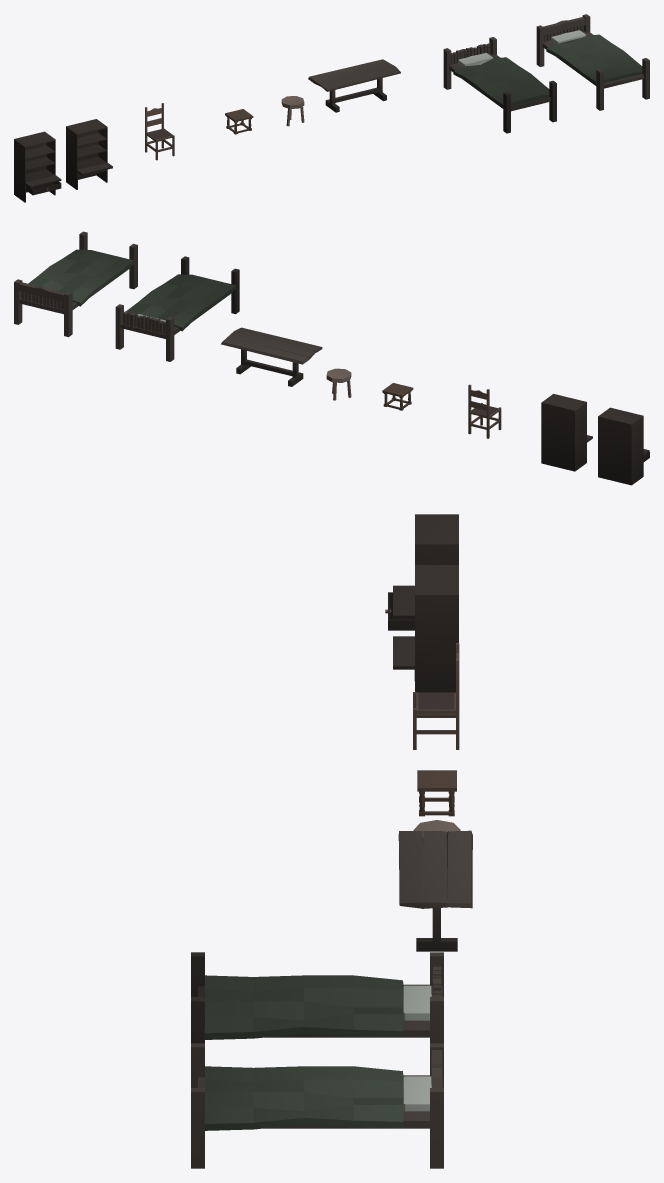
The model's file is Furniture_Houses1.fbx.
3 renders of one model, top to bottom at view 1: azimuth 30°, elevation 25°; view 2: azimuth 150°, elevation 25°; view 3: azimuth 270°, elevation 25°, orthographic. The views are drawn at different scales.
Visible parts, largest first — view 1: Bed2, Bed 1, Cupboard 2, Cupboard 1, Table, Chair 1, Chair 2, Chair 3; view 2: Bed 1, Bed2, Cupboard 2, Cupboard 1, Table, Chair 1, Chair 2, Chair 3; view 3: Bed2, Bed 1, Table, Cupboard 1, Cupboard 2, Chair 1, Chair 2.
Part boxes in pixels (x1=…): Bed2: x1=536, y1=14, x2=649, y2=110; Bed 1: x1=443, y1=37, x2=556, y2=133; Cupboard 2: x1=14, y1=131, x2=61, y2=202; Cupboard 1: x1=66, y1=119, x2=112, y2=189; Table: x1=308, y1=59, x2=400, y2=112; Chair 1: x1=145, y1=103, x2=174, y2=160; Chair 2: x1=225, y1=109, x2=253, y2=134; Chair 3: x1=281, y1=96, x2=304, y2=126; Bed 1: x1=115, y1=256, x2=239, y2=361; Bed2: x1=14, y1=231, x2=137, y2=337; Cupboard 2: x1=598, y1=407, x2=649, y2=485; Cupboard 1: x1=541, y1=394, x2=592, y2=471; Table: x1=221, y1=327, x2=322, y2=386; Chair 1: x1=468, y1=384, x2=501, y2=438; Chair 2: x1=382, y1=383, x2=413, y2=410; Chair 3: x1=326, y1=368, x2=351, y2=400; Bed2: x1=191, y1=1043, x2=443, y2=1168; Bed 1: x1=191, y1=952, x2=443, y2=1043; Table: x1=398, y1=830, x2=472, y2=951; Cupboard 1: x1=393, y1=565, x2=458, y2=692; Cupboard 2: x1=385, y1=514, x2=458, y2=630; Chair 1: x1=413, y1=643, x2=459, y2=749; Chair 2: x1=417, y1=770, x2=456, y2=816.
Size of the model in its own units: 4755 by 443 by 1015.
Materials: 1 (1 with a texture image).
